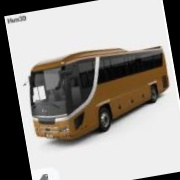bus: (22, 37, 177, 150)
